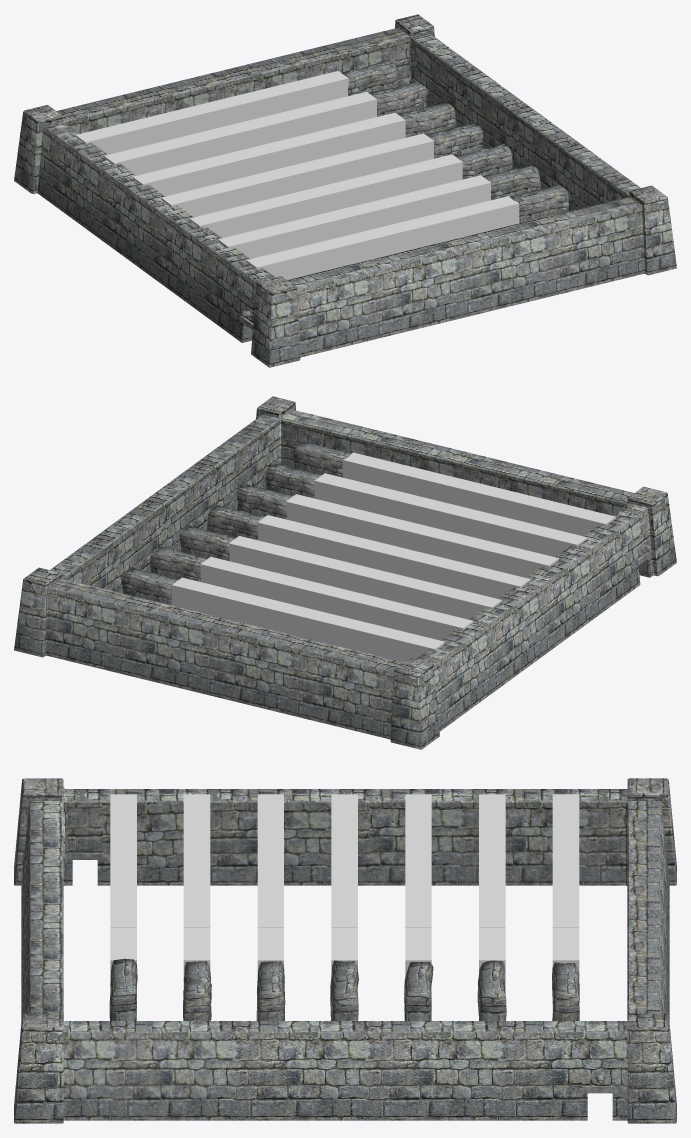
File: MazeWalls.FBX
The picture shows the model from 3 angles, top to bottom: view 1: azimuth 30°, elevation 25°; view 2: azimuth 150°, elevation 25°; view 3: azimuth 270°, elevation 25°; orthographic projection. The views are drawn at different scales.
Parts seen in each view (by area): view 1: Outer Wall, MazeWallProxy04, MazeWallProxy01, MazeWallProxy03, MazeWallProxy02, MazeWallProxy23, MazeWallProxy19, MazeWallProxy16, MazeWallProxy11, MazeWallProxy27, MazeWallProxy21, MazeWallProxy31 (+31 smaller); view 2: Outer Wall, MazeWallProxy34, MazeWallProxy33, MazeWallProxy32, MazeWallProxy31, MazeWallProxy18, MazeWallProxy14, MazeWallProxy26, MazeWallProxy22, MazeWallProxy17, MazeWallProxy24, MazeWallProxy07 (+31 smaller); view 3: Outer Wall, MazeWall 04, MazeWall 01, MazeWall 02, MazeWall 03, MazeWall 06, MazeWall 05, MazeWall 07, MazeWallProxy31, MazeWallProxy06, MazeWallProxy21, MazeWallProxy26 (+31 smaller).
Boxes of the visible parts, <box> form: Outer Wall: <box>14,14,676,367</box>; MazeWallProxy04: <box>301,234,363,274</box>; MazeWallProxy01: <box>457,196,519,236</box>; MazeWallProxy03: <box>353,221,414,261</box>; MazeWallProxy02: <box>405,208,466,249</box>; MazeWallProxy23: <box>239,138,301,176</box>; MazeWallProxy19: <box>216,171,277,209</box>; MazeWallProxy16: <box>372,133,433,171</box>; MazeWallProxy11: <box>400,154,462,192</box>; MazeWallProxy27: <box>263,104,324,142</box>; MazeWallProxy21: <box>344,112,405,150</box>; MazeWallProxy31: <box>286,71,348,109</box>; Outer Wall: <box>14,396,676,749</box>; MazeWallProxy34: <box>328,615,389,656</box>; MazeWallProxy33: <box>276,603,337,643</box>; MazeWallProxy32: <box>224,590,285,630</box>; MazeWallProxy31: <box>172,577,233,617</box>; MazeWallProxy18: <box>361,540,423,578</box>; MazeWallProxy14: <box>442,532,503,570</box>; MazeWallProxy26: <box>200,557,262,595</box>; MazeWallProxy22: <box>281,548,342,586</box>; MazeWallProxy17: <box>309,527,371,565</box>; MazeWallProxy24: <box>385,574,446,611</box>; MazeWallProxy07: <box>366,486,428,523</box>; Outer Wall: <box>14,778,676,1123</box>; MazeWall 04: <box>330,960,358,1020</box>; MazeWall 01: <box>109,958,137,1020</box>; MazeWall 02: <box>183,961,211,1020</box>; MazeWall 03: <box>256,961,285,1020</box>; MazeWall 06: <box>477,960,506,1020</box>; MazeWall 05: <box>404,962,433,1020</box>; MazeWall 07: <box>552,962,579,1020</box>; MazeWallProxy31: <box>552,927,579,1013</box>; MazeWallProxy06: <box>183,927,210,989</box>; MazeWallProxy21: <box>405,927,431,1020</box>; MazeWallProxy26: <box>479,927,505,993</box>.
Size of the model in its own units: 207 by 35.48 by 225.
